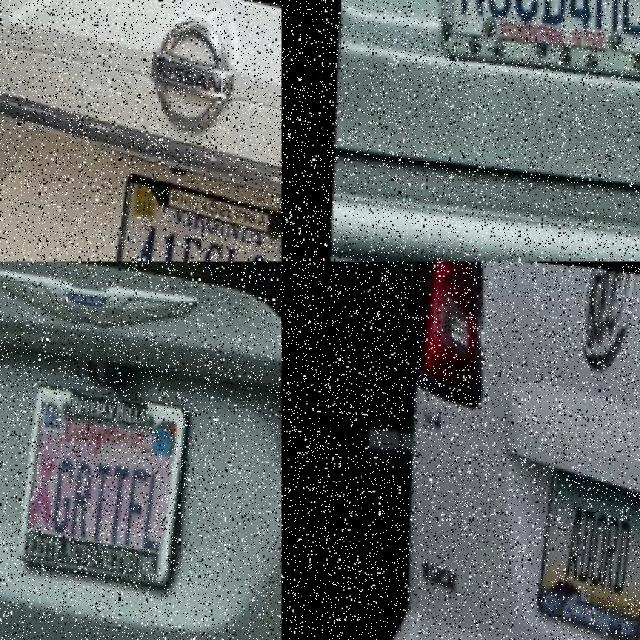licenseplate: (18, 380, 179, 585), (431, 0, 640, 117), (534, 464, 640, 636), (112, 168, 282, 262)
